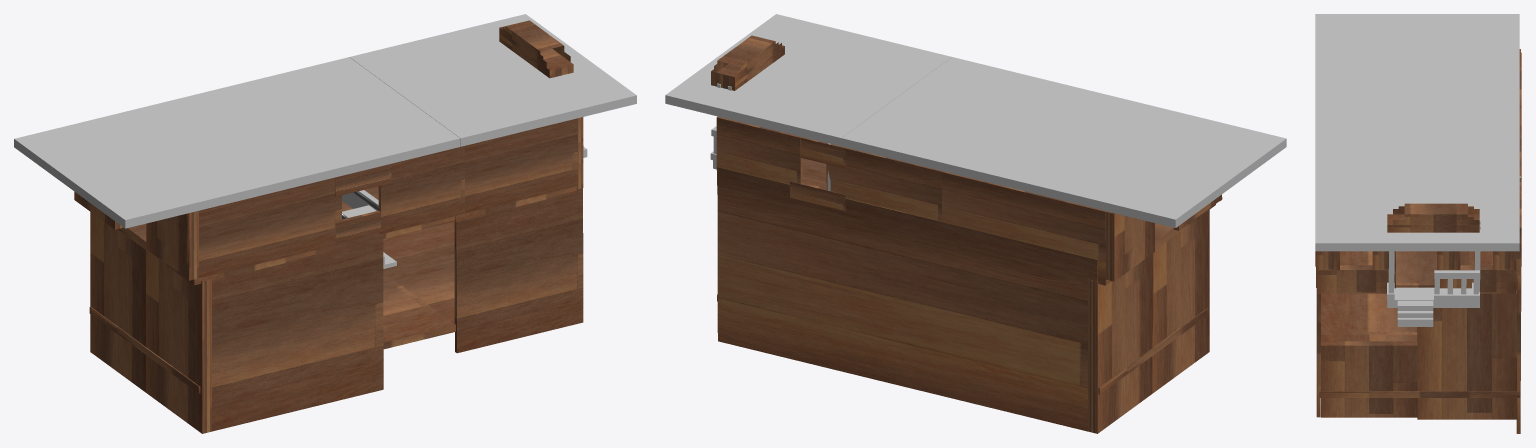
File: TheStayhouse.fbx
The picture shows the model from 3 angles, left to right: view 1: azimuth 30°, elevation 25°; view 2: azimuth 150°, elevation 25°; view 3: azimuth 270°, elevation 25°; orthographic projection. The views are drawn at different scales.
Visible parts, largest first — view 1: 2WALLS, Cube.007, 1WALLS, BASEMENTFLOOR, LIVINROOMFLOOR, Cube.050; view 2: 2WALLS, Cube.007, 1WALLS, Cube.050, LIVINROOMFLOOR, BASEMENTFLOOR; view 3: Cube.007, 2WALLS, 1WALLS, BASEMENTFLOOR, PORCSTAIRS, Cube.050, LIVINROOMFLOOR, frontStair.
Part boxes in pixels (x1,y1,x2,y2): 2WALLS: (90,188,583,433); Cube.007: (14,14,636,228); 1WALLS: (74,117,583,280); BASEMENTFLOOR: (89,221,455,393); LIVINROOMFLOOR: (117,186,576,285); Cube.050: (499,20,573,78); 2WALLS: (717,167,1209,433); Cube.007: (665,14,1286,227); 1WALLS: (716,116,1222,281); Cube.050: (711,35,784,90); LIVINROOMFLOOR: (802,158,1215,285); BASEMENTFLOOR: (717,294,1208,394); Cube.007: (1315,14,1519,251); 2WALLS: (1315,136,1521,433); 1WALLS: (1316,49,1521,293); BASEMENTFLOOR: (1319,293,1520,397); PORCSTAIRS: (1387,220,1480,307); Cube.050: (1387,203,1479,232); LIVINROOMFLOOR: (1340,251,1517,292); frontStair: (1397,300,1433,326).
Size of the model in its own units: 5539 by 2621 by 2107.
